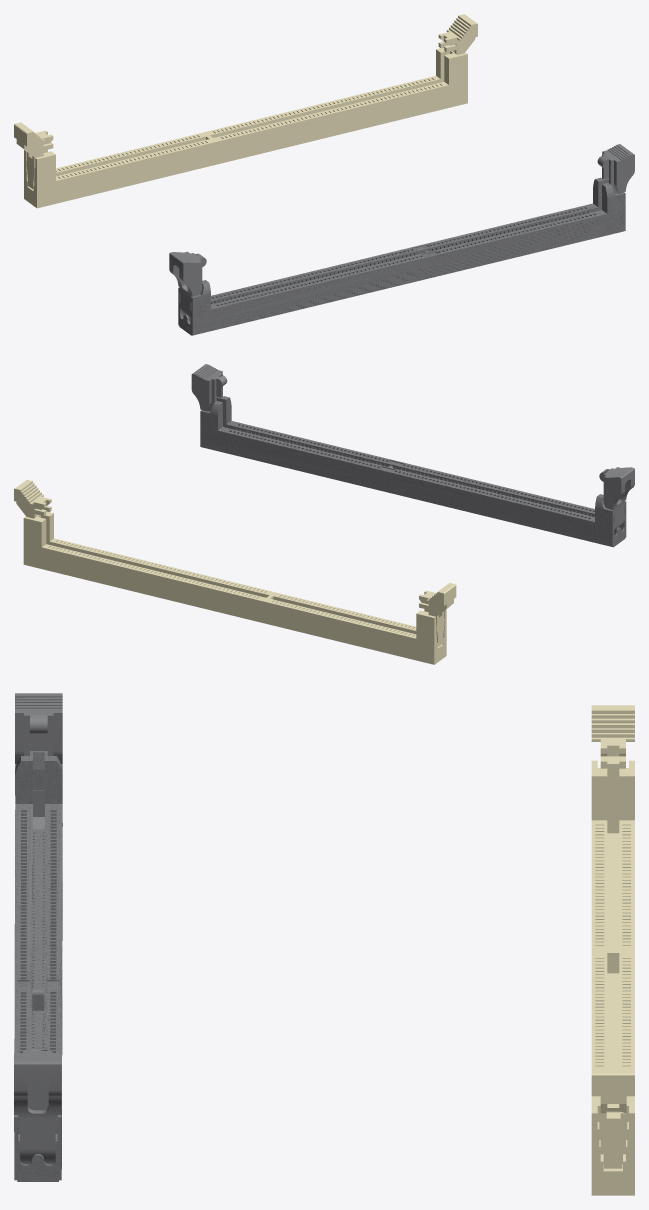
File: Ram.dae
3 renders of one model, top to bottom at view 1: azimuth 30°, elevation 25°; view 2: azimuth 150°, elevation 25°; view 3: azimuth 270°, elevation 25°, orthographic. The views are drawn at different scales.
Visible parts, largest first — view 1: instance_22, group_17, group_17_002, group_18, group_19; view 2: instance_22, group_17, group_17_002, group_18, group_19; view 3: instance_22, group_17, group_19, group_17_002, group_18.
Boxes of the visible parts, x1,y1,x2,y2 form: instance_22: (14,14,477,208); group_17: (178,177,625,335); group_17_002: (211,203,597,300); group_18: (169,251,206,319); group_19: (597,144,634,209); instance_22: (14,479,456,664); group_17: (200,396,626,547); group_17_002: (218,427,594,521); group_18: (599,467,634,532); group_19: (191,364,227,426); instance_22: (591,705,634,1195); group_17: (14,751,62,1181); group_19: (14,1048,61,1164); group_17_002: (44,804,62,1109); group_18: (15,693,62,830).
Size of the model in its own units: 0.152 by 0.1045 by 0.0241.
